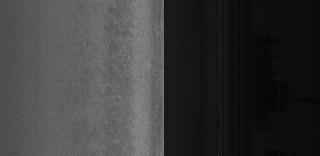silk spot: (80, 54, 138, 94)
